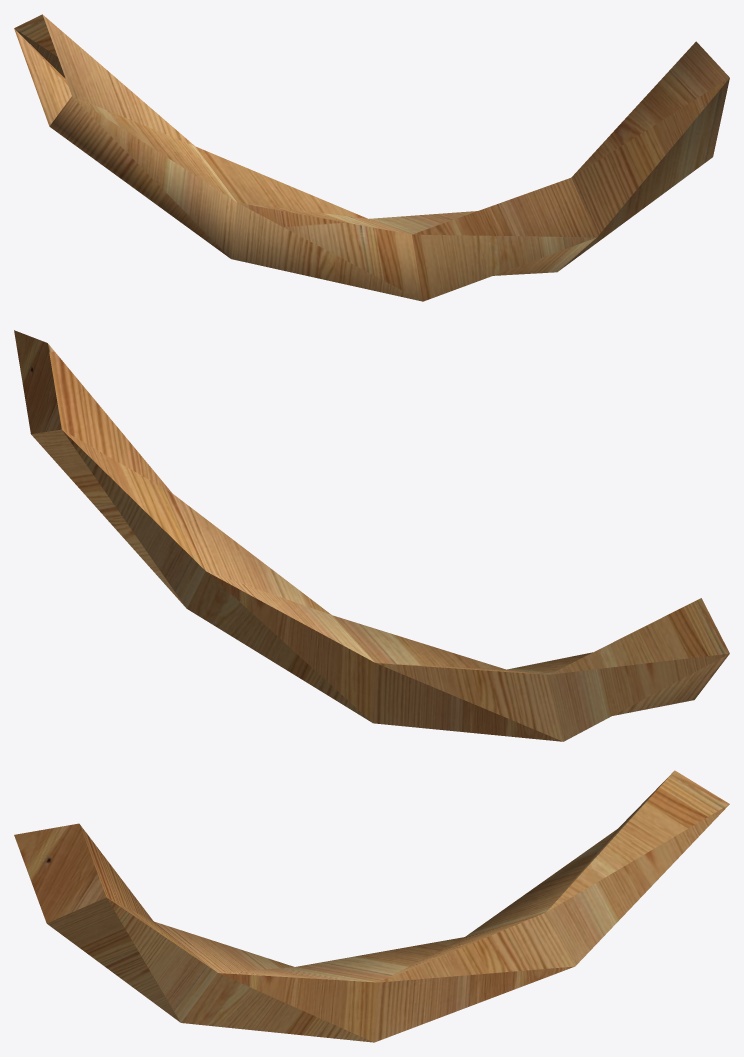
Rendered from original-772.obj.
3 renders of one model, top to bottom at view 1: azimuth 30°, elevation 25°; view 2: azimuth 210°, elevation 25°; view 3: azimuth 270°, elevation 25°, orthographic. The views are drawn at different scales.
Visible parts, largest first — view 1: mesh229/mesh229-geometry#mesh229-geometry; view 2: mesh229/mesh229-geometry#mesh229-geometry; view 3: mesh229/mesh229-geometry#mesh229-geometry.
Part boxes in pixels (box(x1,y1,x2,y2)): mesh229/mesh229-geometry#mesh229-geometry: box(14, 14, 729, 301); mesh229/mesh229-geometry#mesh229-geometry: box(14, 330, 729, 741); mesh229/mesh229-geometry#mesh229-geometry: box(14, 770, 729, 1042).
Size of the model in its own units: 0.00461 by 0.00396 by 0.00854.
